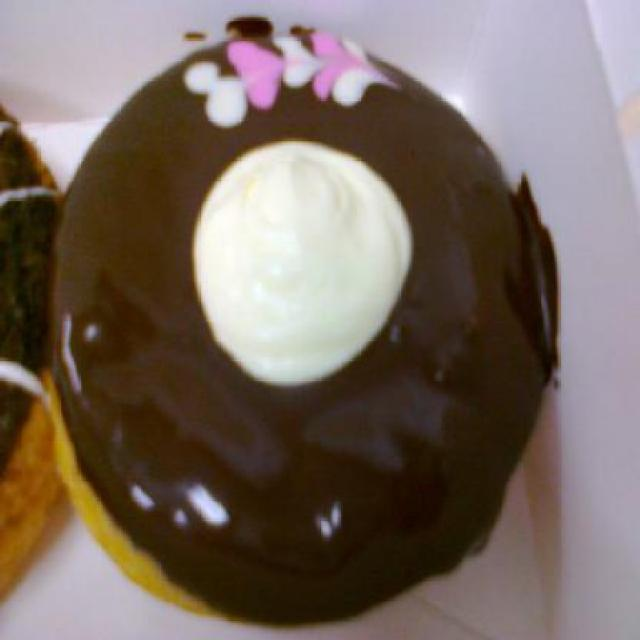Donuts: (24, 15, 638, 633)
